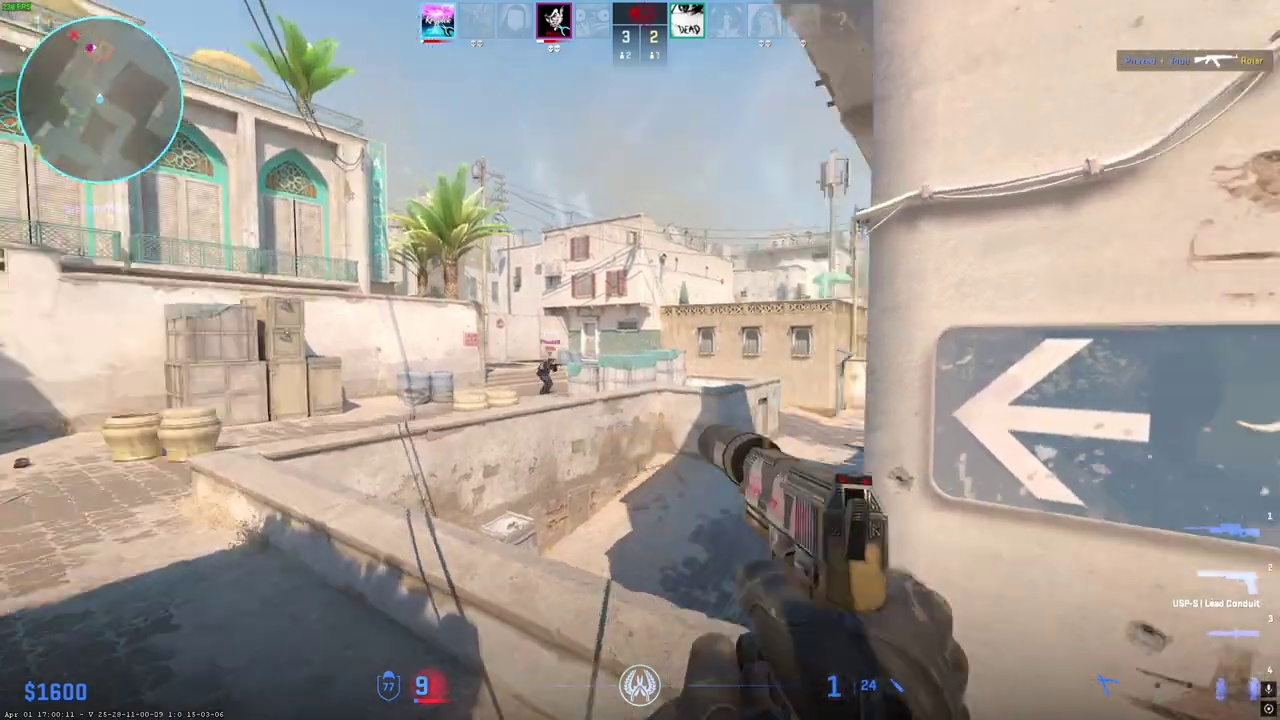CT: (537, 357, 557, 395)
